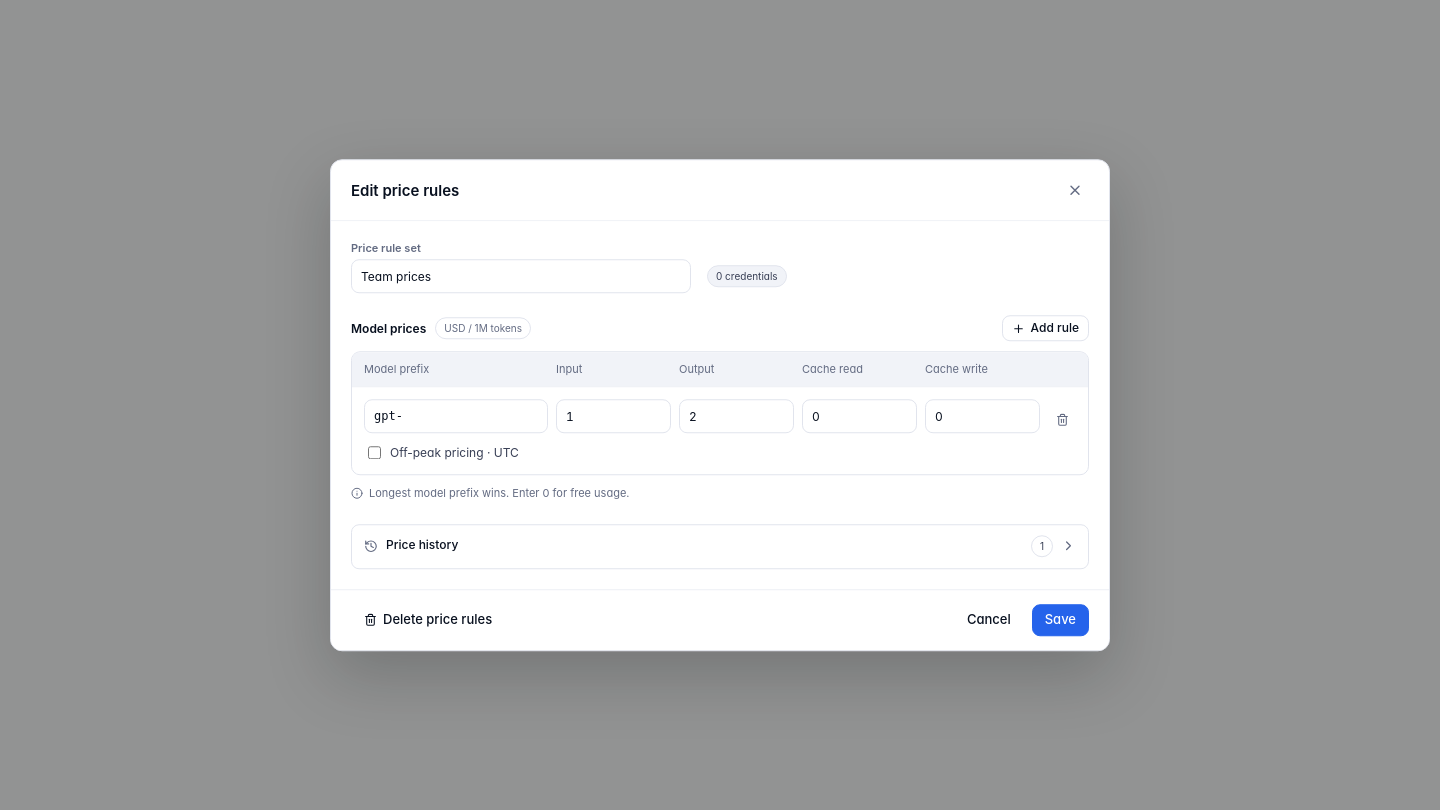
clearing a price does not silently save zero
The width and height of the screenshot is (1440, 810).
Clear the 1st number field. click: (614, 416)
box: [556,399,671,433]
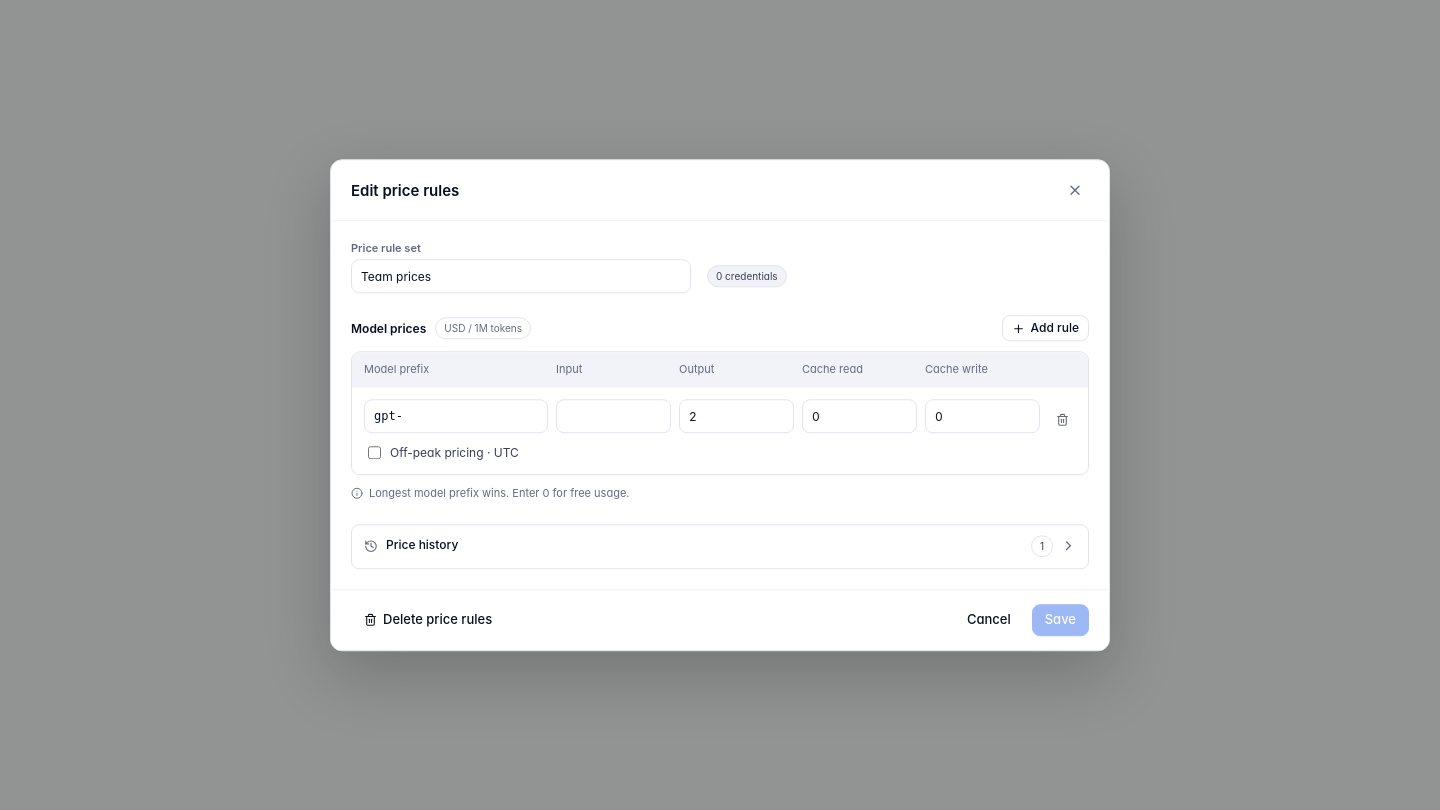
Result: the button "Save" is disabled at [1032,604,1089,636]
Type "0" into the 1st number field. click: (614, 416)
box: [556,399,671,433]
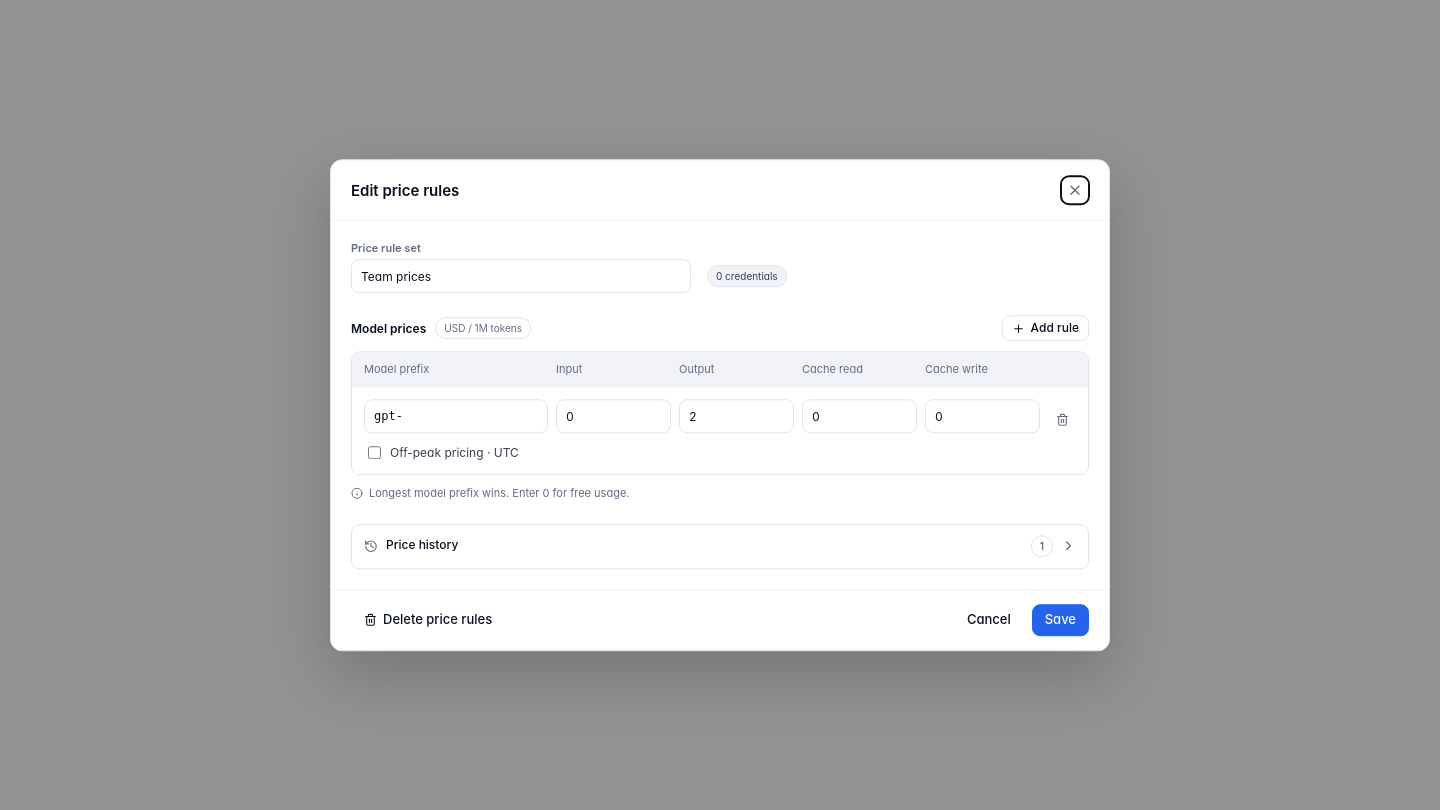
Result: the button "Save" is enabled at [1032,604,1089,636]
